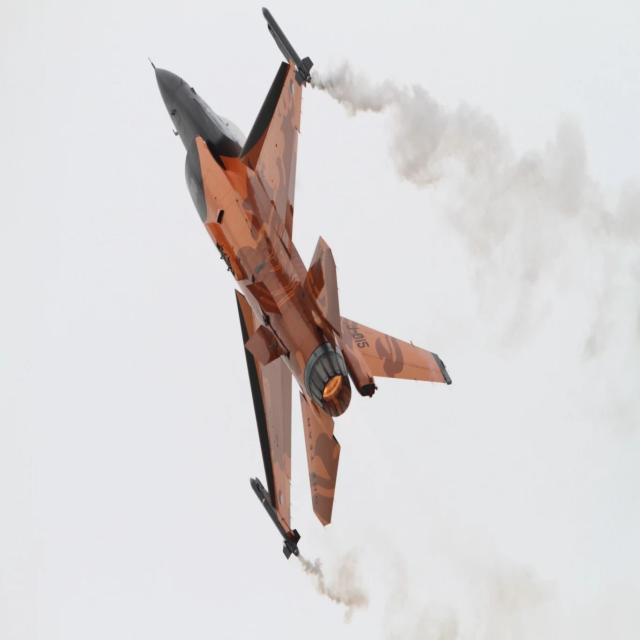MIL_Plane: (147, 6, 452, 560)
